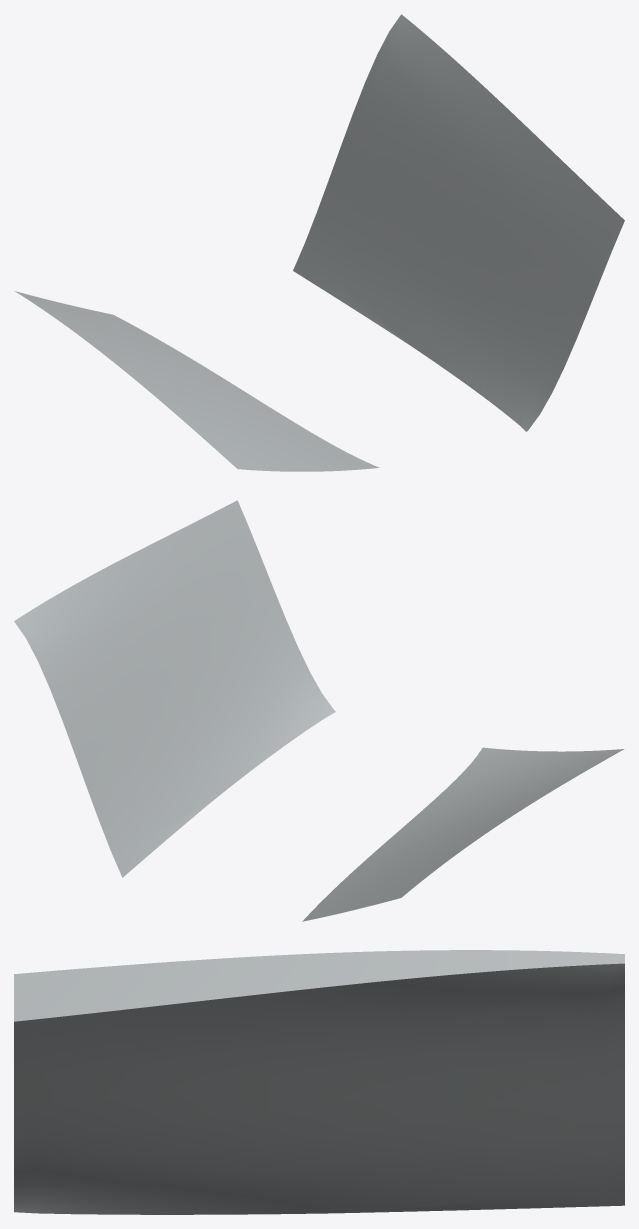
File: alpine-11-7.glb
3 renders of one model, top to bottom at view 1: azimuth 30°, elevation 25°; view 2: azimuth 150°, elevation 25°; view 3: azimuth 270°, elevation 25°, orthographic. The views are drawn at different scales.
Parts seen in each view (by area): view 1: alpine-11-7; view 2: alpine-11-7; view 3: alpine-11-7.
Boxes of the visible parts, box(x1,y1,x2,y2) form: alpine-11-7: box(15, 14, 624, 471); alpine-11-7: box(14, 500, 624, 921); alpine-11-7: box(14, 950, 624, 1214).
Size of the model in its own units: 256 by 145 by 256.
1 material, 1 textured.
